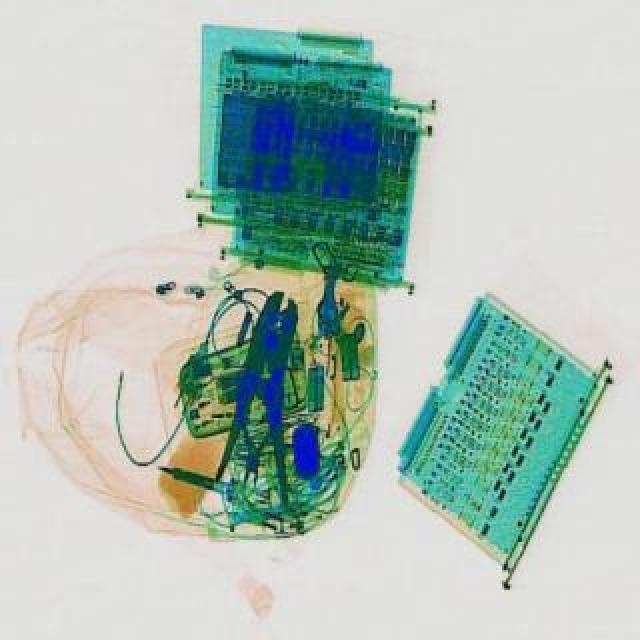wrench: (210, 282, 326, 502), (224, 388, 284, 490)
